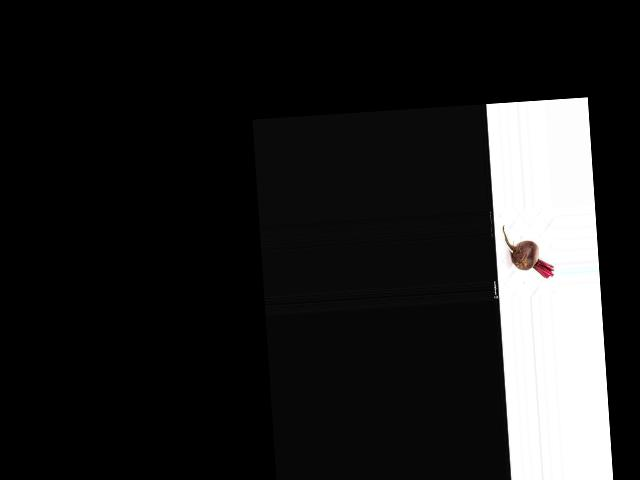beet: (502, 221, 554, 280)
